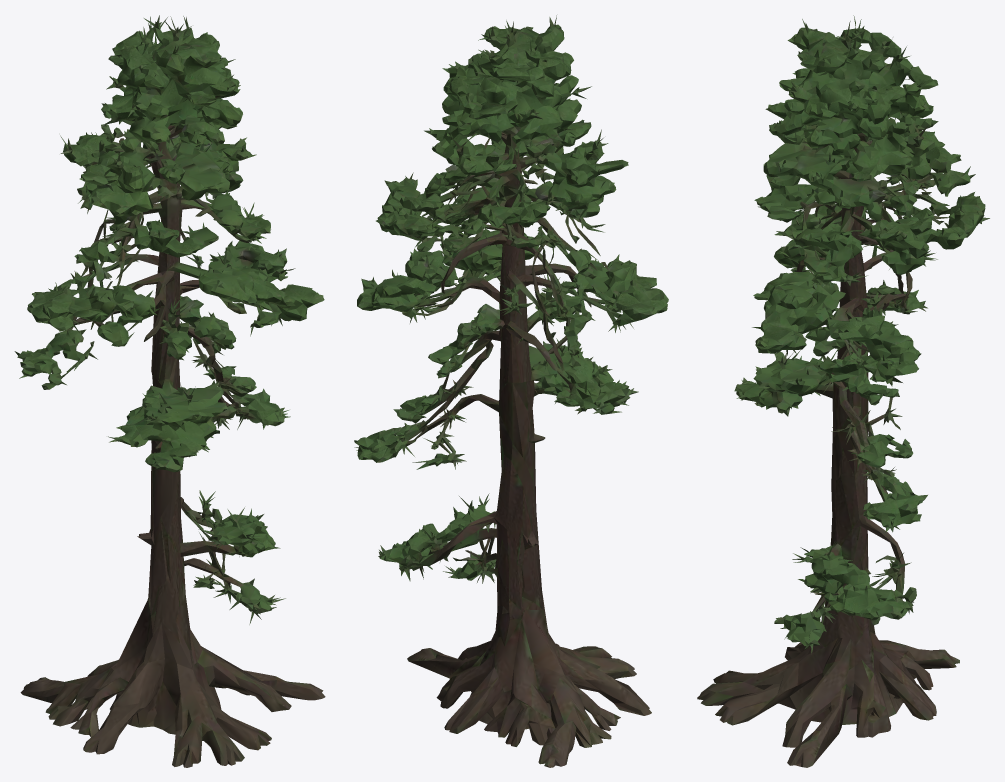
File: pine_s.glb
3 views of the same model, side by side, from view 1: azimuth 30°, elevation 25°; view 2: azimuth 150°, elevation 25°; view 3: azimuth 270°, elevation 25° (orthographic).
Bounding box in the file's own units: 0.816 × 1.9 × 0.7359.
1 material, 1 textured.
